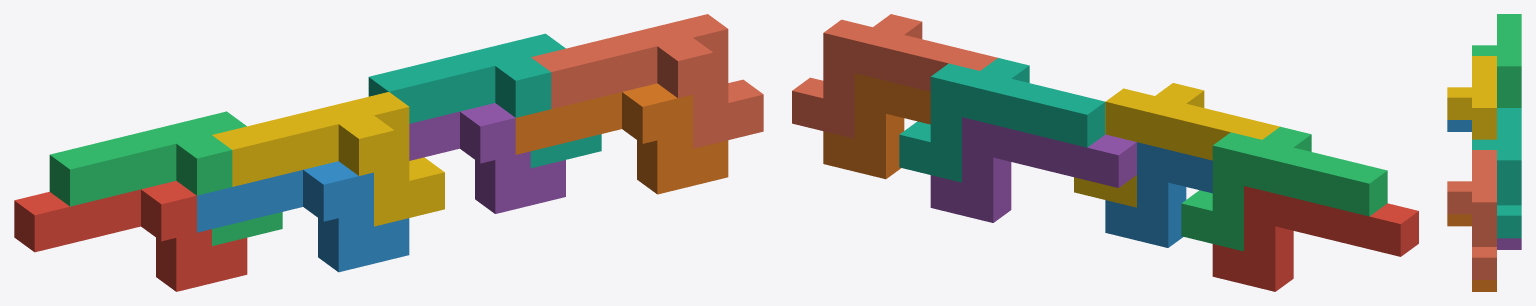
File: tiling.obj
3 views of the same model, side by side, from view 1: azimuth 30°, elevation 25°; view 2: azimuth 150°, elevation 25°; view 3: azimuth 270°, elevation 25° (orthographic). The views are drawn at different scales.
Parts seen in each view (by area): view 1: copy_1_domain_8, copy_1_domain_4, copy_1_domain_1, copy_1_domain_3, copy_1_domain_6, copy_1_domain_2, copy_1_domain_7, copy_1_domain_5; view 2: copy_1_domain_7, copy_1_domain_3, copy_1_domain_8, copy_1_domain_1, copy_1_domain_5, copy_1_domain_4, copy_1_domain_6, copy_1_domain_2; view 3: copy_1_domain_8, copy_1_domain_7, copy_1_domain_4, copy_1_domain_3, copy_1_domain_6, copy_1_domain_2, copy_1_domain_5.
Boxes of the visible parts, x1,y1,x2,y2 form: copy_1_domain_8: [531, 14, 763, 148]; copy_1_domain_4: [212, 92, 444, 226]; copy_1_domain_1: [14, 180, 247, 291]; copy_1_domain_3: [49, 111, 282, 245]; copy_1_domain_6: [515, 83, 728, 194]; copy_1_domain_2: [197, 161, 409, 272]; copy_1_domain_7: [368, 33, 601, 168]; copy_1_domain_5: [409, 103, 565, 213]; copy_1_domain_7: [899, 58, 1105, 182]; copy_1_domain_3: [1181, 126, 1387, 251]; copy_1_domain_8: [792, 14, 997, 138]; copy_1_domain_1: [1212, 186, 1418, 291]; copy_1_domain_5: [930, 117, 1136, 222]; copy_1_domain_4: [1074, 83, 1279, 207]; copy_1_domain_6: [823, 73, 930, 179]; copy_1_domain_2: [1105, 142, 1212, 247]; copy_1_domain_8: [1447, 150, 1496, 279]; copy_1_domain_7: [1472, 108, 1521, 238]; copy_1_domain_4: [1447, 56, 1496, 139]; copy_1_domain_3: [1472, 14, 1521, 107]; copy_1_domain_6: [1447, 214, 1496, 291]; copy_1_domain_2: [1447, 120, 1471, 131]; copy_1_domain_5: [1497, 238, 1521, 249].
Bounding box in the file's own units: 20 × 4 × 3.
